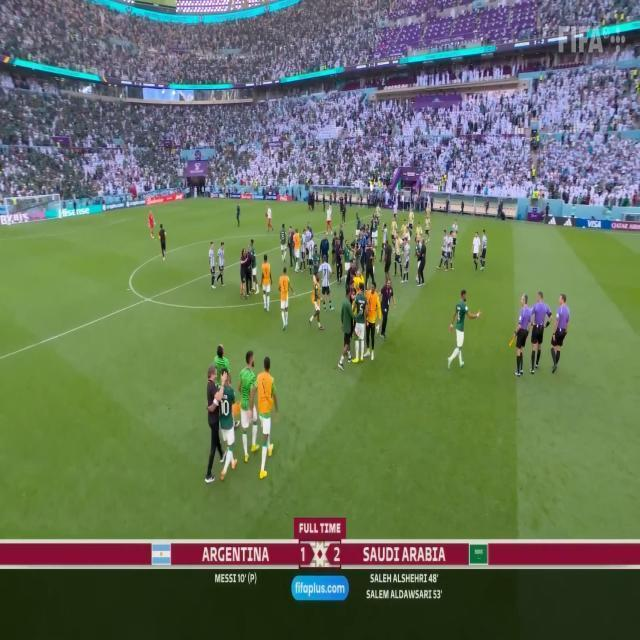player: (256, 347, 278, 480), (218, 369, 238, 484), (239, 348, 258, 463), (451, 285, 471, 375), (279, 265, 297, 335), (262, 246, 276, 321), (341, 286, 352, 378), (356, 279, 368, 363), (310, 275, 324, 330), (321, 256, 334, 312), (218, 230, 228, 293), (479, 223, 490, 279), (402, 234, 413, 286), (208, 236, 218, 290), (307, 234, 317, 281), (450, 222, 455, 275)
